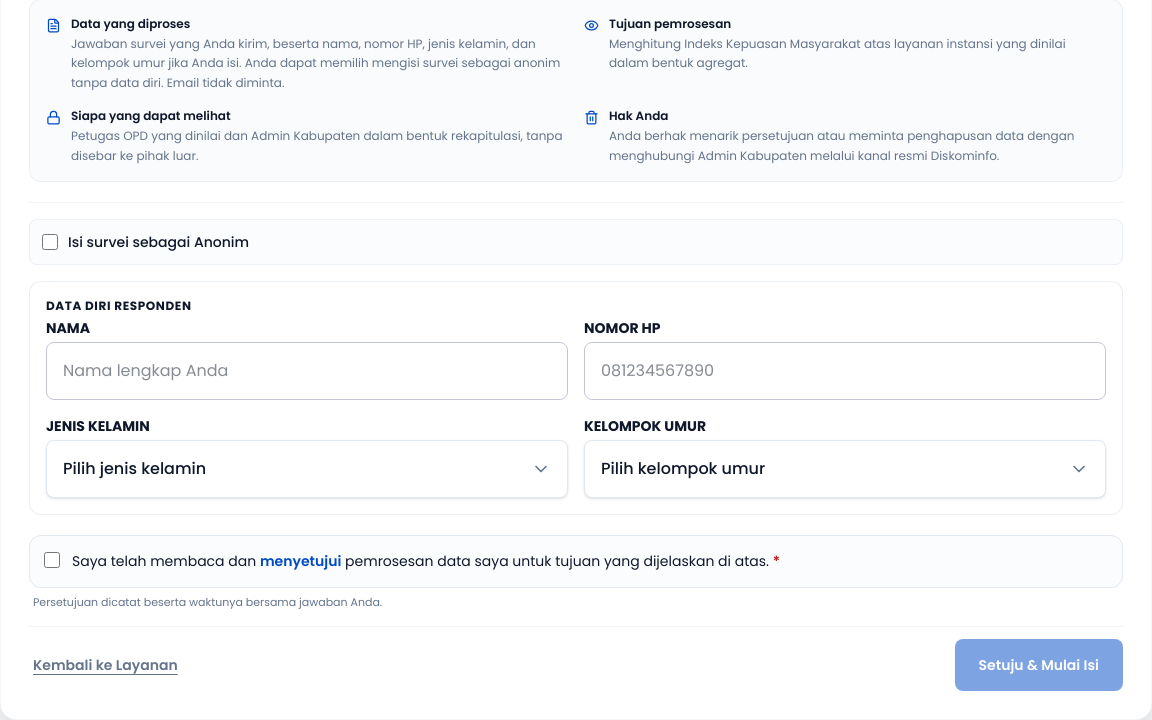
Scenario: GerbangPengisianPublik › menolak nomor HP yang bentuknya tidak dikenali
(page scrolled)
Click the checkbox labelled "menyetujui".
click(52, 560)  # box top-left (44, 552), bottom-right (60, 568)
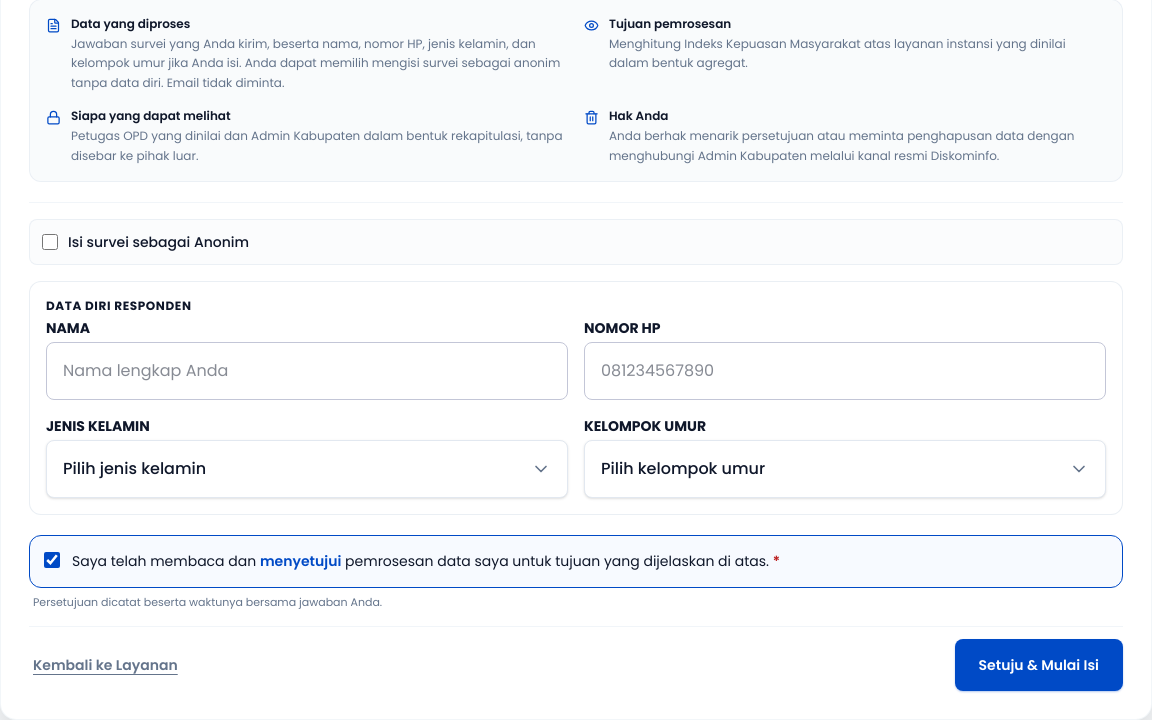
Type "Siti Aminah" into the field labelled "NAMA".
click(307, 371); type("Siti Aminah")  # box top-left (46, 342), bottom-right (568, 400)
Type "12345" into the field labelled "NOMOR HP".
click(845, 371); type("12345")  # box top-left (584, 342), bottom-right (1106, 400)
Click the button labelled "Pilih jenis kelamin".
click(135, 468)  # box top-left (46, 440), bottom-right (568, 498)
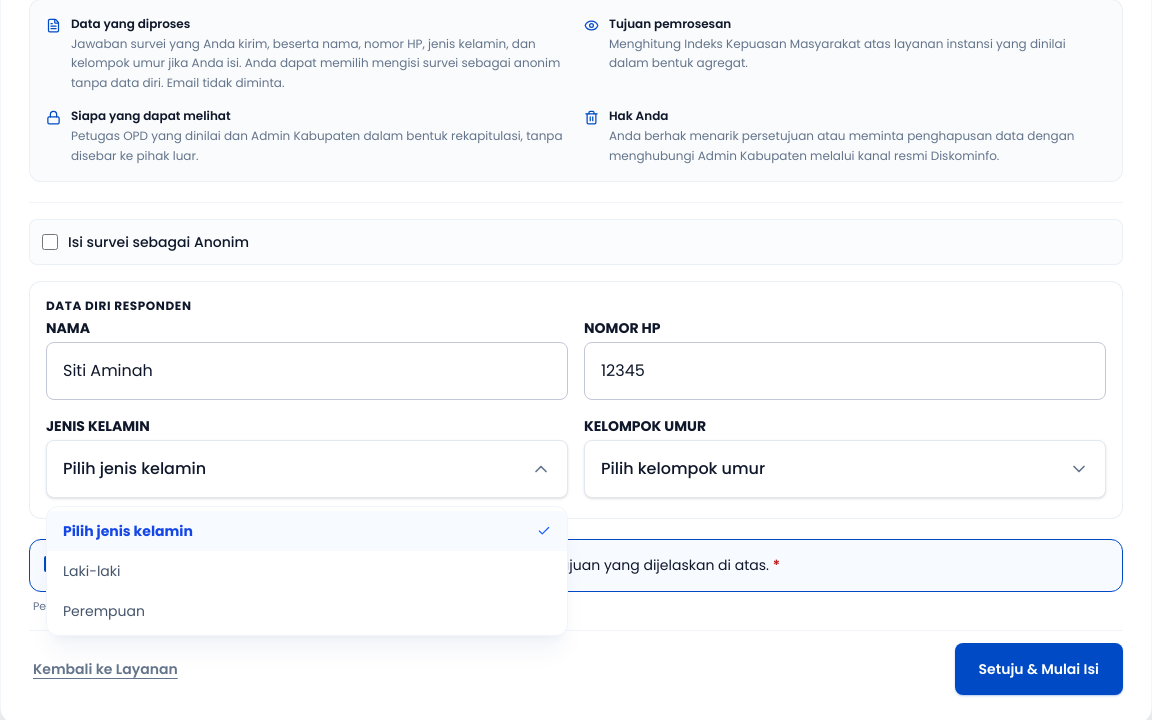
Click the button "Perempuan".
click(104, 611)  # box top-left (47, 591), bottom-right (567, 631)
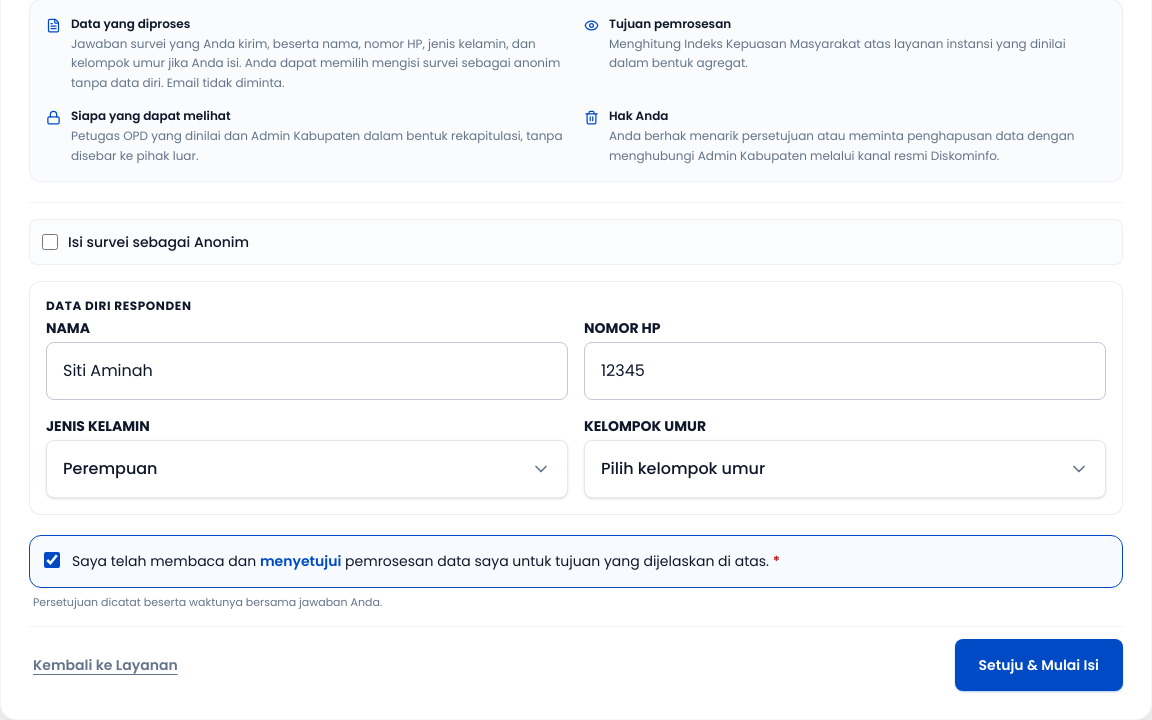
Click the button labelled "Pilih kelompok umur".
click(683, 468)  # box top-left (584, 440), bottom-right (1106, 498)
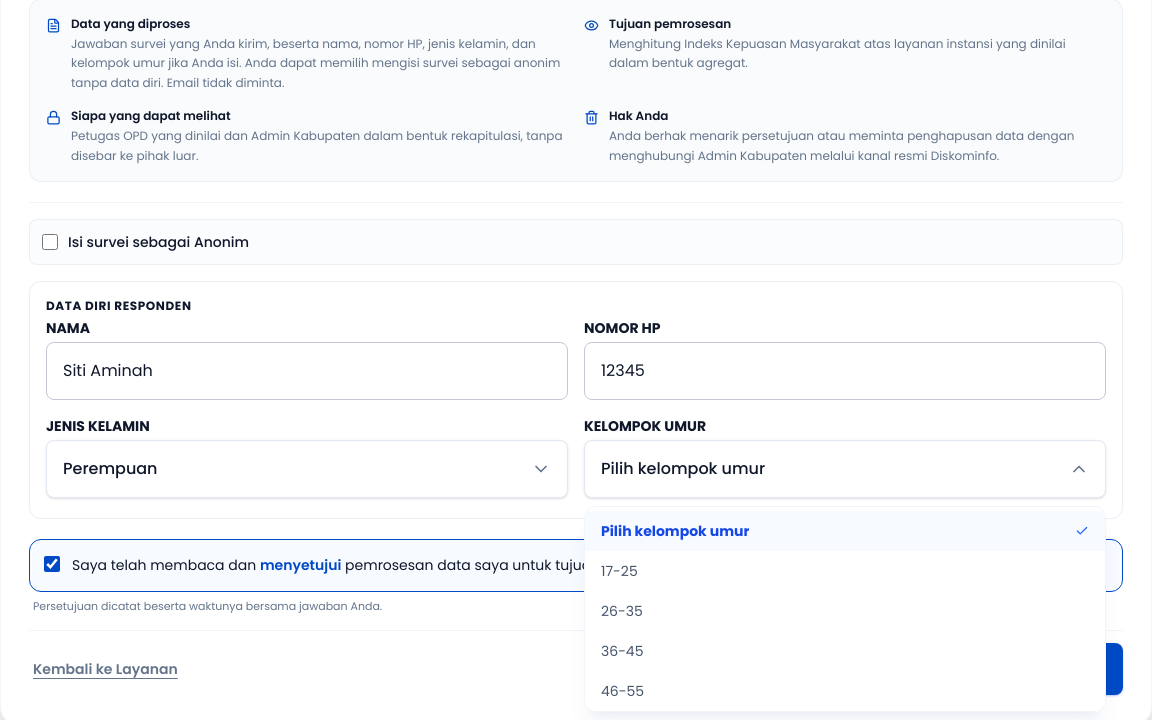
Click the button "26-35".
click(622, 611)  # box top-left (585, 591), bottom-right (1105, 631)
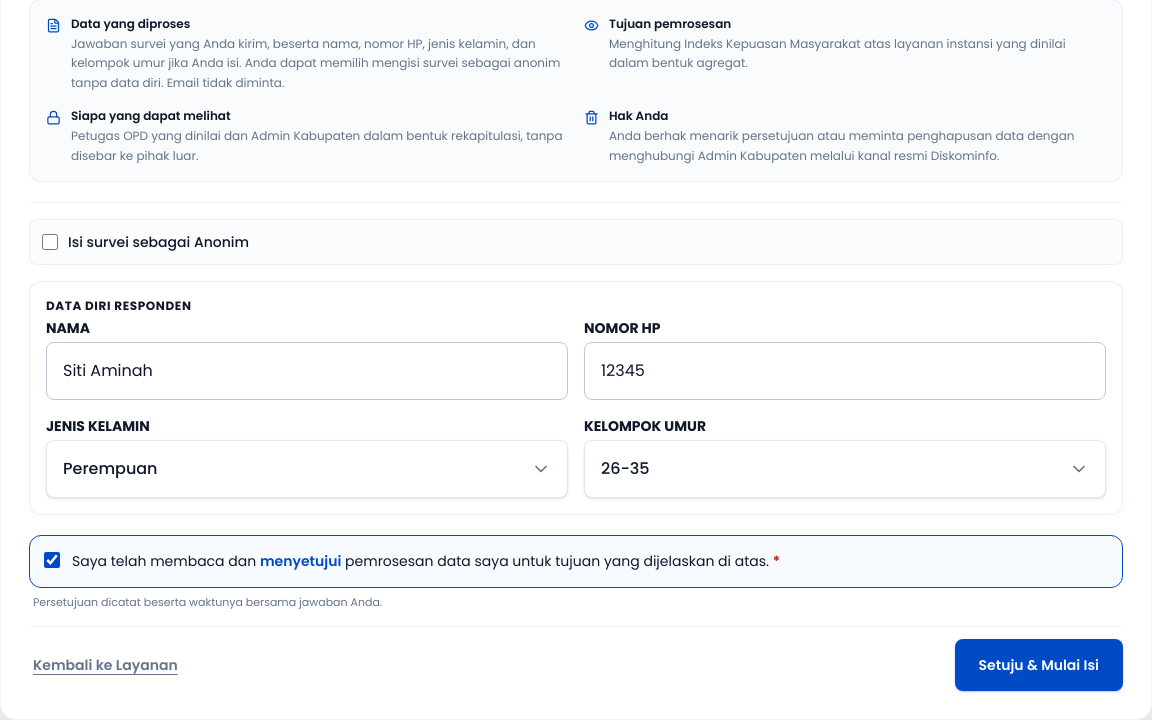
Click the button "Setuju & Mulai Isi".
click(1039, 665)  # box top-left (955, 639), bottom-right (1123, 691)
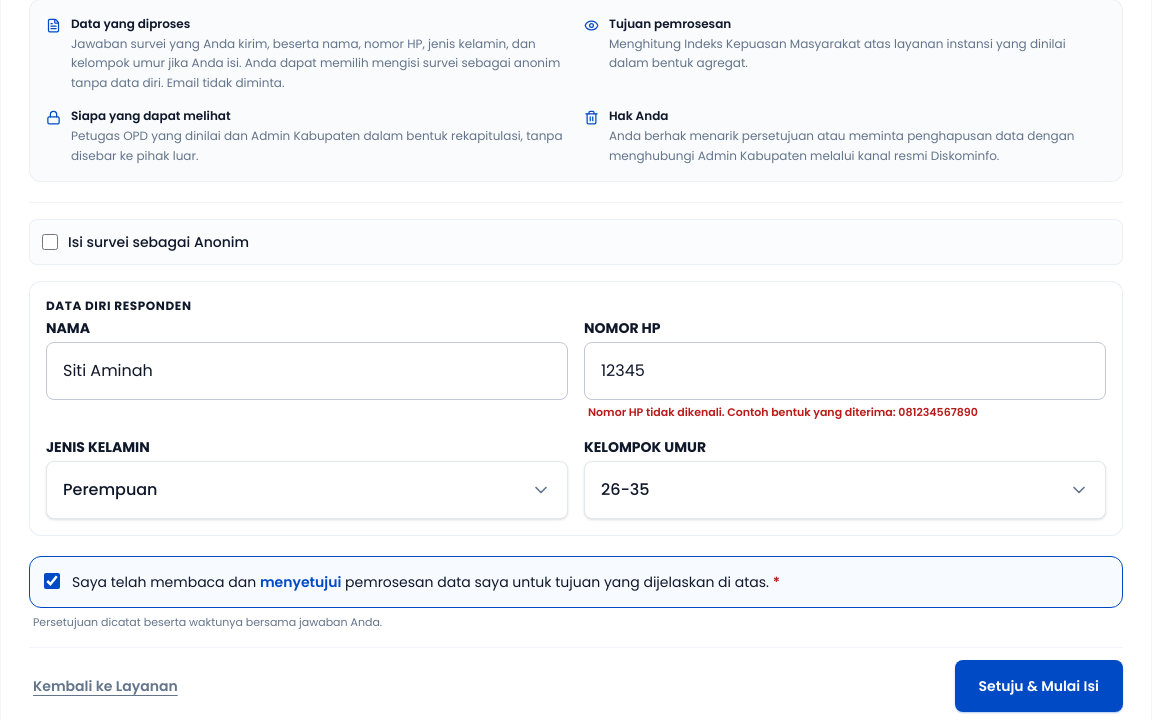
Check: the text "Nomor HP tidak dikenali" is shown, box top-left (588, 404), bottom-right (978, 420)
